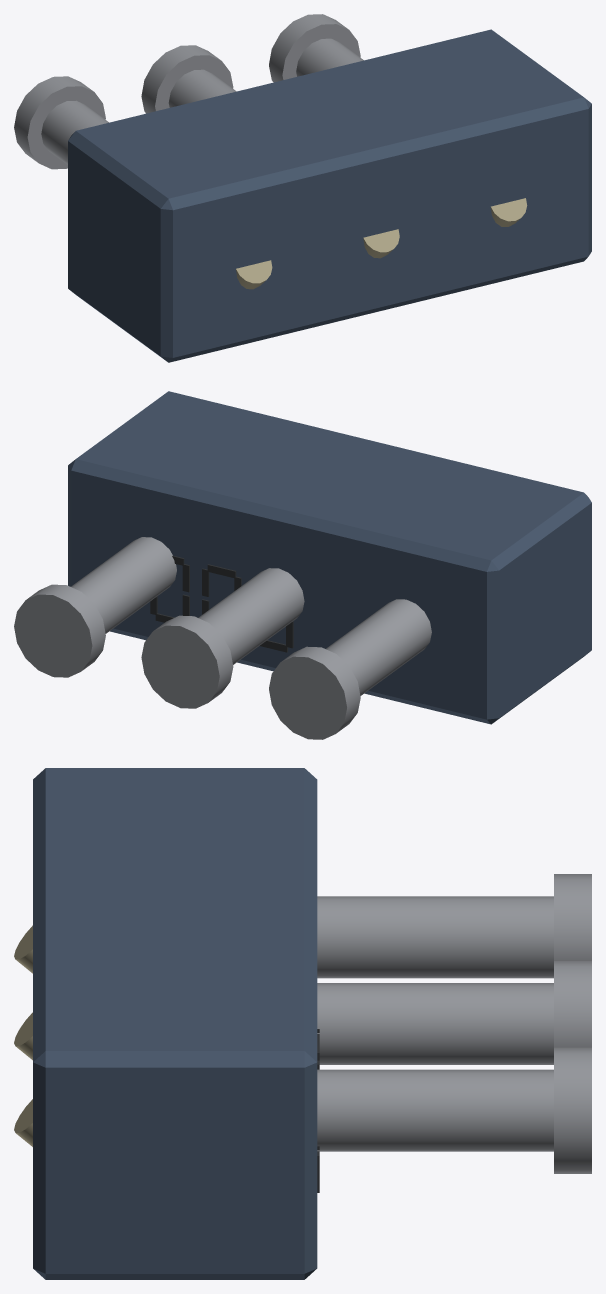
File: kc1000_ports.obj
3 views of the same model, one above another, from view 1: azimuth 30°, elevation 25°; view 2: azimuth 150°, elevation 25°; view 3: azimuth 270°, elevation 25° (orthographic). The views are drawn at different scales.
Visible parts, largest first — view 1: kc1000_ports; view 2: kc1000_ports; view 3: kc1000_ports.
Part boxes in pixels (box(x1,y1,x2,y2)): kc1000_ports: box(14, 14, 591, 362); kc1000_ports: box(14, 391, 591, 739); kc1000_ports: box(14, 768, 591, 1279).
Size of the model in its own units: 2.2 by 0.8269 by 1.83.
